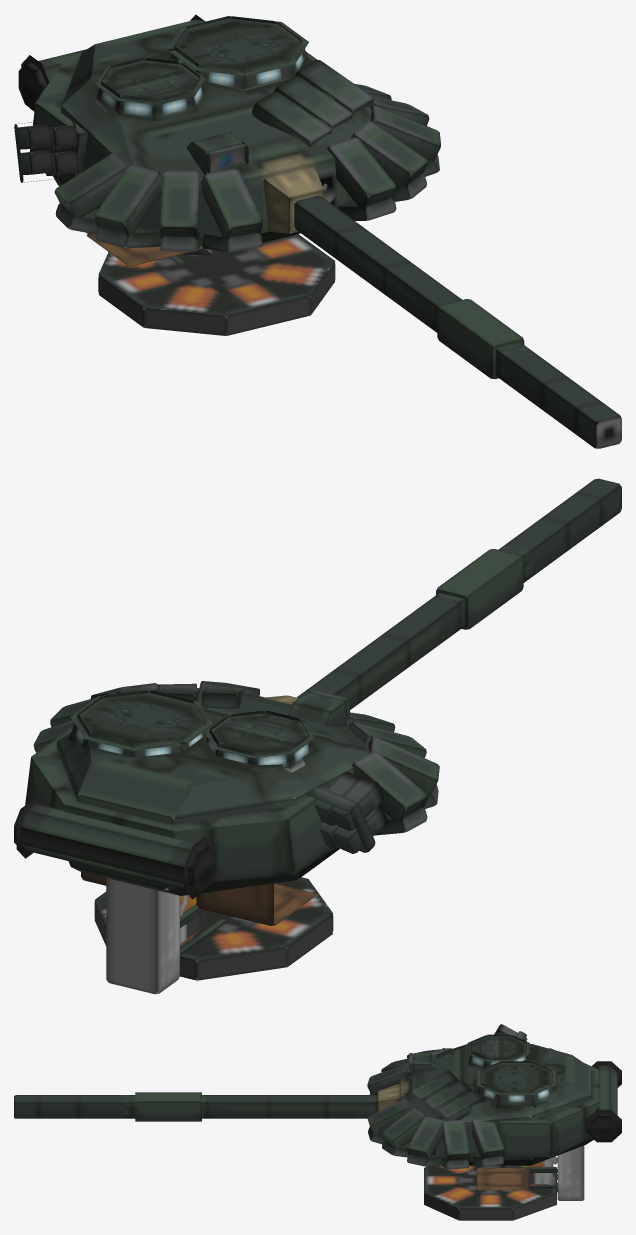
Rendered from autoloaderturret.obj.
3 views of the same model, one above another, from view 1: azimuth 30°, elevation 25°; view 2: azimuth 150°, elevation 25°; view 3: azimuth 270°, elevation 25° (orthographic). The views are drawn at different scales.
Visible parts, largest first — view 1: cylinder63, cylinder64, cube6, cylinder_selection69, cube9, cylinder61, cube36, cube34, cube24, cube67, cube35, cylinder62 (+24 smaller); view 2: cylinder64, cube6, cylinder62, cylinder73, cylinder63, cube, cylinder_selection69, cube9, cylinder61, cube37, cylinder_selection72, cube59 (+16 smaller); view 3: cube6, cylinder64, cylinder63, cylinder62, cube9, cylinder_selection69, cylinder73, cube, cube55, cylinder68, cylinder61, cube26 (+18 smaller).
Boxes of the visible parts, x1=… form: cylinder63: x1=98, y1=234, x2=335, y2=335; cylinder64: x1=62, y1=19, x2=377, y2=180; cube6: x1=294, y1=196, x2=621, y2=448; cylinder_selection69: x1=167, y1=16, x2=308, y2=75; cube9: x1=437, y1=299, x2=524, y2=379; cylinder61: x1=53, y1=104, x2=352, y2=238; cube36: x1=94, y1=164, x2=162, y2=236; cube34: x1=201, y1=168, x2=262, y2=241; cube24: x1=327, y1=137, x2=396, y2=209; cube67: x1=263, y1=166, x2=323, y2=233; cube35: x1=160, y1=170, x2=200, y2=239; cylinder62: x1=29, y1=51, x2=316, y2=183; cylinder64: x1=58, y1=689, x2=372, y2=817; cube6: x1=296, y1=478, x2=621, y2=709; cylinder62: x1=25, y1=726, x2=333, y2=881; cylinder73: x1=14, y1=804, x2=216, y2=893; cylinder63: x1=94, y1=877, x2=333, y2=980; cube: x1=106, y1=878, x2=179, y2=994; cylinder_selection69: x1=70, y1=690, x2=213, y2=750; cube9: x1=436, y1=549, x2=523, y2=629; cylinder61: x1=56, y1=740, x2=353, y2=889; cube37: x1=351, y1=751, x2=427, y2=822; cylinder_selection72: x1=204, y1=713, x2=315, y2=758; cube59: x1=196, y1=883, x2=273, y2=925; cube6: x1=14, y1=1095, x2=377, y2=1118; cylinder64: x1=400, y1=1044, x2=590, y2=1122; cylinder63: x1=424, y1=1165, x2=556, y2=1220; cylinder62: x1=497, y1=1048, x2=599, y2=1157; cube9: x1=135, y1=1092, x2=201, y2=1121; cylinder_selection69: x1=476, y1=1061, x2=556, y2=1095; cylinder73: x1=591, y1=1065, x2=617, y2=1140; cube: x1=557, y1=1145, x2=584, y2=1200; cube55: x1=476, y1=1168, x2=529, y2=1190; cylinder68: x1=478, y1=1061, x2=554, y2=1108; cylinder61: x1=399, y1=1069, x2=592, y2=1161; cube26: x1=407, y1=1116, x2=443, y2=1159.
Bounding box in the file's own units: 3.73 × 2.13 × 8.99.
